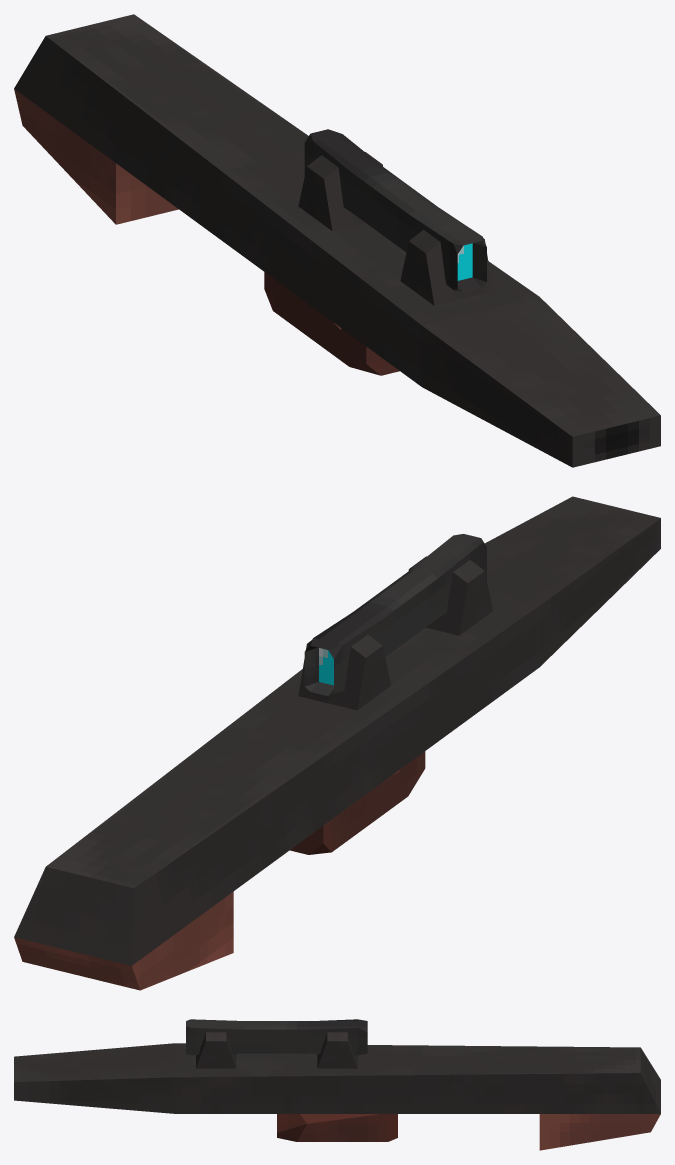
The model's file is sniper.glb.
The picture shows the model from 3 angles, top to bottom: view 1: azimuth 30°, elevation 25°; view 2: azimuth 150°, elevation 25°; view 3: azimuth 270°, elevation 25°; orthographic projection. The views are drawn at different scales.
Parts seen in each view (by area): view 1: main, scope, handle, trigger, scope_holder, scope_holder2; view 2: main, scope, handle, trigger, scope_holder2, scope_holder; view 3: main, scope, trigger, handle, scope_holder, scope_holder2.
Part boxes in pixels (x1,y1,x2,y2): main: (14,14,660,467); scope: (304,129,486,291); handle: (14,89,178,224); trigger: (264,272,399,375); scope_holder: (400,230,493,305); scope_holder2: (298,152,382,231); main: (14,496,660,965); scope: (304,534,486,696); handle: (14,891,233,990); trigger: (290,751,425,854); scope_holder2: (298,634,391,710); scope_holder: (408,556,493,635); main: (14,1043,660,1113); scope: (186,1019,367,1055); trigger: (277,1114,397,1141); handle: (539,1114,660,1150); scope_holder: (196,1032,236,1068); scope_holder2: (317,1032,357,1068).
Bounding box in the file's own units: 0.125 × 0.1875 × 1.
Materials: 2 (2 with a texture image).
